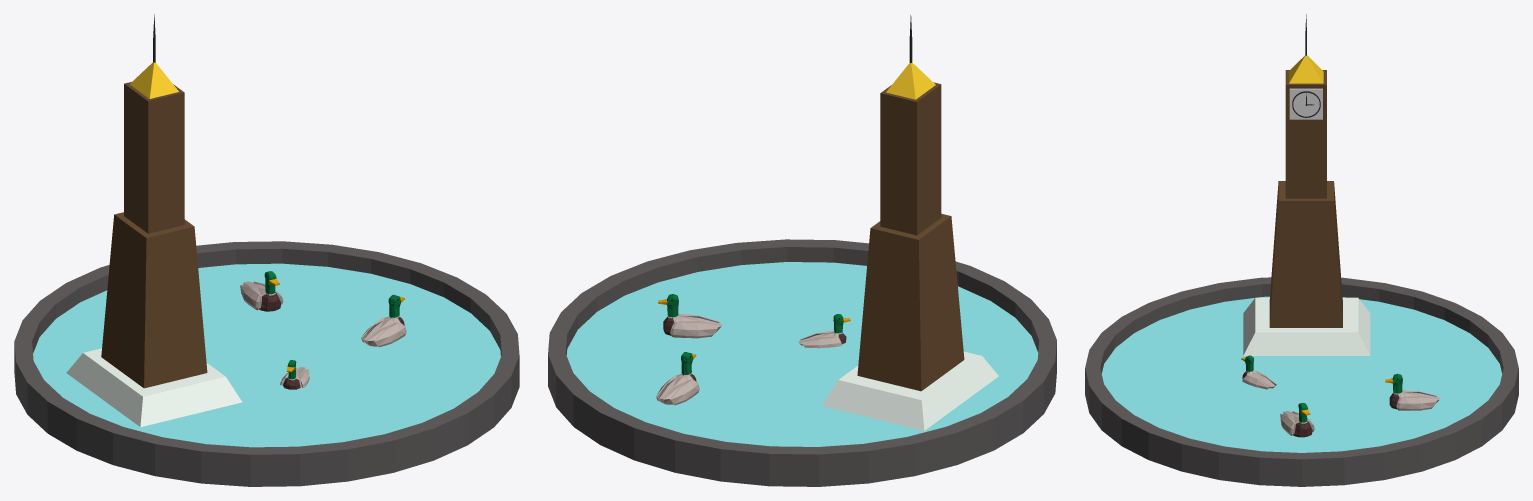
The model's file is Tunis.dc82f5fb.glb.
3 views of the same model, side by side, from view 1: azimuth 30°, elevation 25°; view 2: azimuth 150°, elevation 25°; view 3: azimuth 270°, elevation 25° (orthographic). The views are drawn at different scales.
Visible parts, largest first — view 1: Cylinder.003, Cylinder, Cube.001, Cube, Cube.002, Object_26.001, Object_26; view 2: Cylinder.003, Cylinder, Cube.001, Cube, Cube.002, Object_26.001, Object_26, Object_26.002; view 3: Cylinder.003, Cylinder, Cube.001, Cube, Cube.002, Object_26, Cube.004, Cylinder.004.
Boxes of the visible parts, box(x1,y1,x2,y2) form: Cylinder.003: box(33, 263, 500, 447); Cylinder: box(14, 241, 519, 486); Cube.001: box(101, 82, 207, 388); Cube: box(66, 348, 241, 427); Cube.002: box(129, 62, 178, 98); Object_26.001: box(361, 316, 406, 347); Object_26: box(240, 281, 283, 310); Cylinder.003: box(566, 262, 1038, 446); Cylinder: box(548, 239, 1056, 486); Cube.001: box(857, 82, 964, 391); Cube: box(821, 351, 998, 430); Cube.002: box(886, 62, 935, 99); Object_26.001: box(670, 314, 721, 338); Object_26: box(656, 374, 699, 405); Object_26.002: box(798, 330, 841, 348); Cylinder.003: box(1102, 296, 1501, 452); Cylinder: box(1085, 277, 1518, 486); Cube.001: box(1269, 70, 1342, 327); Cube: box(1243, 297, 1370, 355); Cube.002: box(1289, 55, 1323, 83); Object_26: box(1396, 390, 1439, 410); Cube.004: box(1289, 88, 1322, 119); Cylinder.004: box(1293, 92, 1319, 116).
Size of the model in its own units: 50.05 by 43.22 by 50.05.
